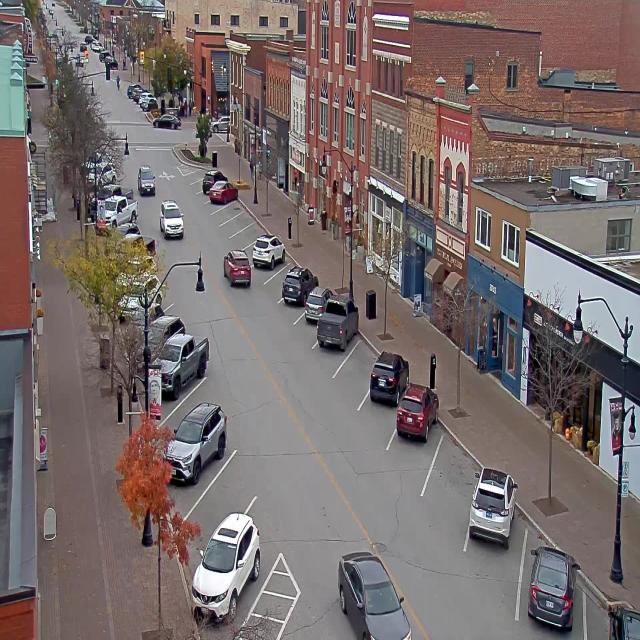available: (197, 441, 267, 523), (428, 426, 482, 511), (342, 333, 378, 390), (174, 371, 224, 411), (262, 260, 290, 301), (228, 223, 261, 249), (230, 211, 255, 231), (220, 200, 243, 216), (187, 167, 207, 182), (190, 176, 204, 194)
occupied: (192, 511, 261, 624), (163, 400, 228, 484), (527, 544, 579, 631), (468, 466, 518, 547), (150, 331, 210, 398), (392, 385, 439, 444), (316, 296, 358, 352), (593, 590, 640, 640), (368, 350, 409, 406), (282, 265, 318, 304), (301, 278, 329, 328), (252, 232, 285, 269), (209, 179, 237, 204), (202, 167, 224, 188)
